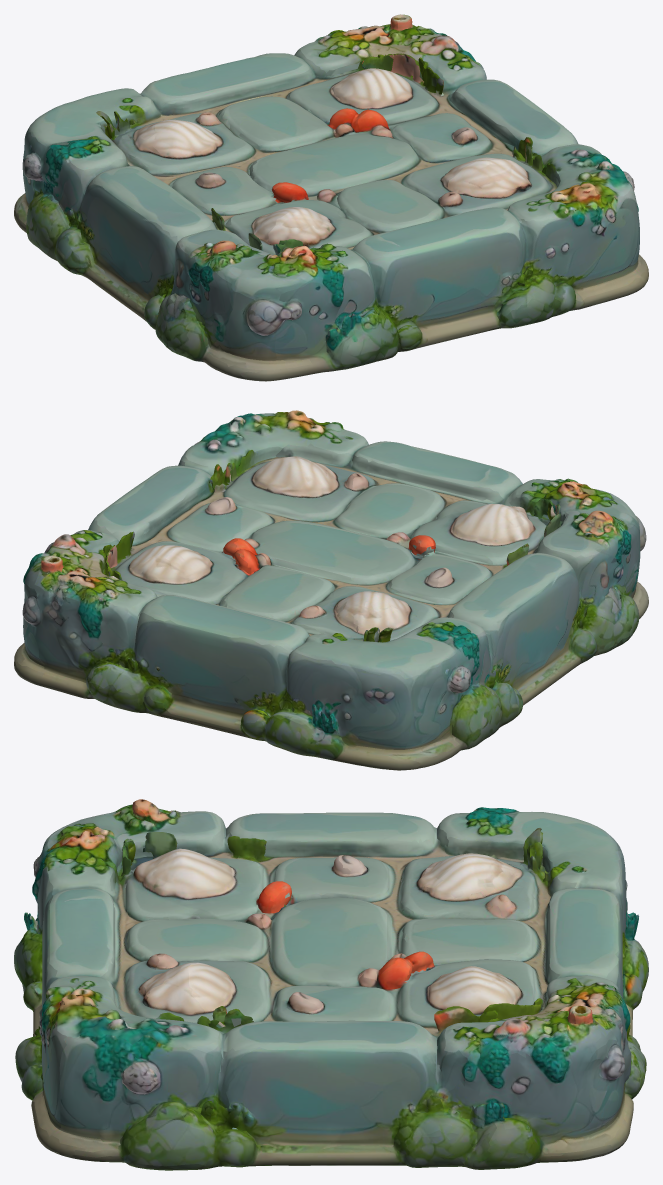
Rendered from ocean_shell_path.glb.
The picture shows the model from 3 angles, top to bottom: view 1: azimuth 30°, elevation 25°; view 2: azimuth 150°, elevation 25°; view 3: azimuth 270°, elevation 25°; orthographic projection. The views are drawn at different scales.
Parts seen in each view (by area): view 1: textured_mesh.obj; view 2: textured_mesh.obj; view 3: textured_mesh.obj.
Part boxes in pixels (left/top/right/bottom): textured_mesh.obj: left=14, top=14, right=648, bottom=381; textured_mesh.obj: left=14, top=410, right=648, bottom=770; textured_mesh.obj: left=14, top=799, right=648, bottom=1170.
Bounding box in the file's own units: 1.98 × 0.4585 × 1.99.
Materials: 1 (1 with a texture image).
